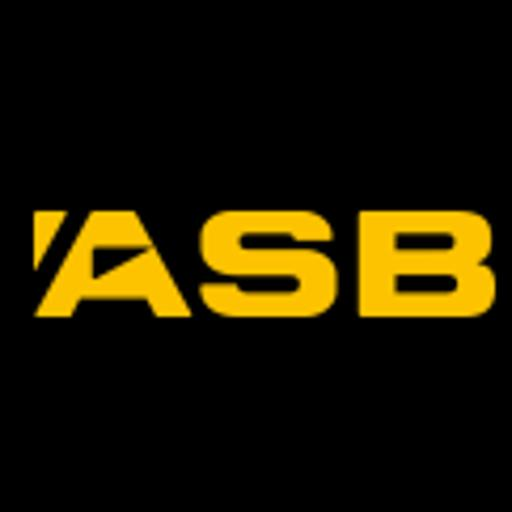ASB Bank Limited: (0, 173, 512, 338)
